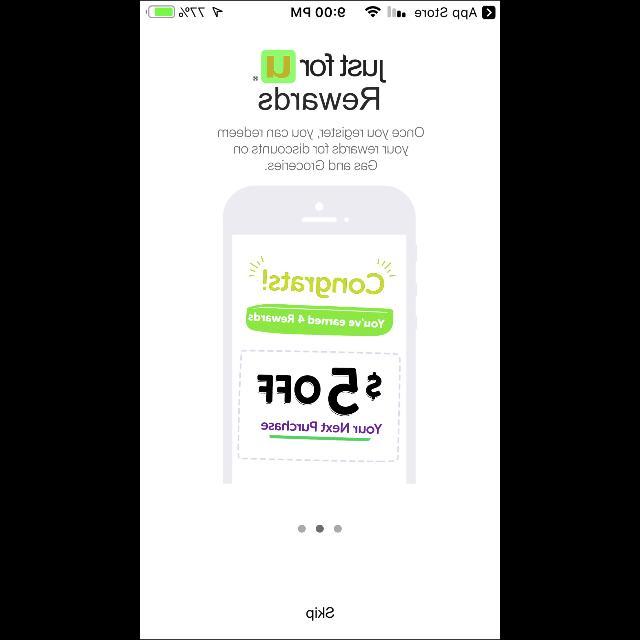image: (222, 186, 418, 484), (252, 50, 386, 110)
pageindicator: (298, 525, 342, 533)
text: (218, 127, 424, 171), (306, 607, 334, 621)
uppertaskbar: (140, 0, 500, 20)
